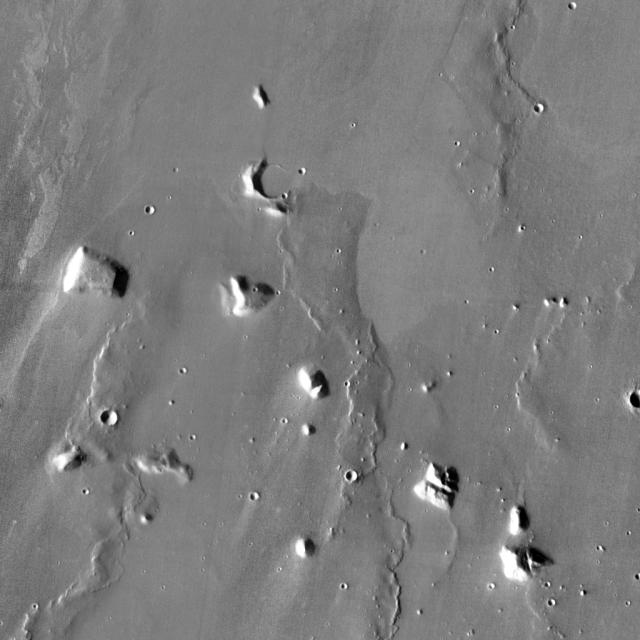crater: (255, 163, 294, 200), (99, 409, 117, 426), (346, 471, 358, 482), (535, 102, 545, 112), (250, 493, 259, 502), (146, 206, 156, 213), (570, 0, 578, 8), (300, 166, 308, 174), (82, 488, 89, 495), (549, 598, 557, 604), (180, 368, 187, 374), (190, 435, 197, 441)
